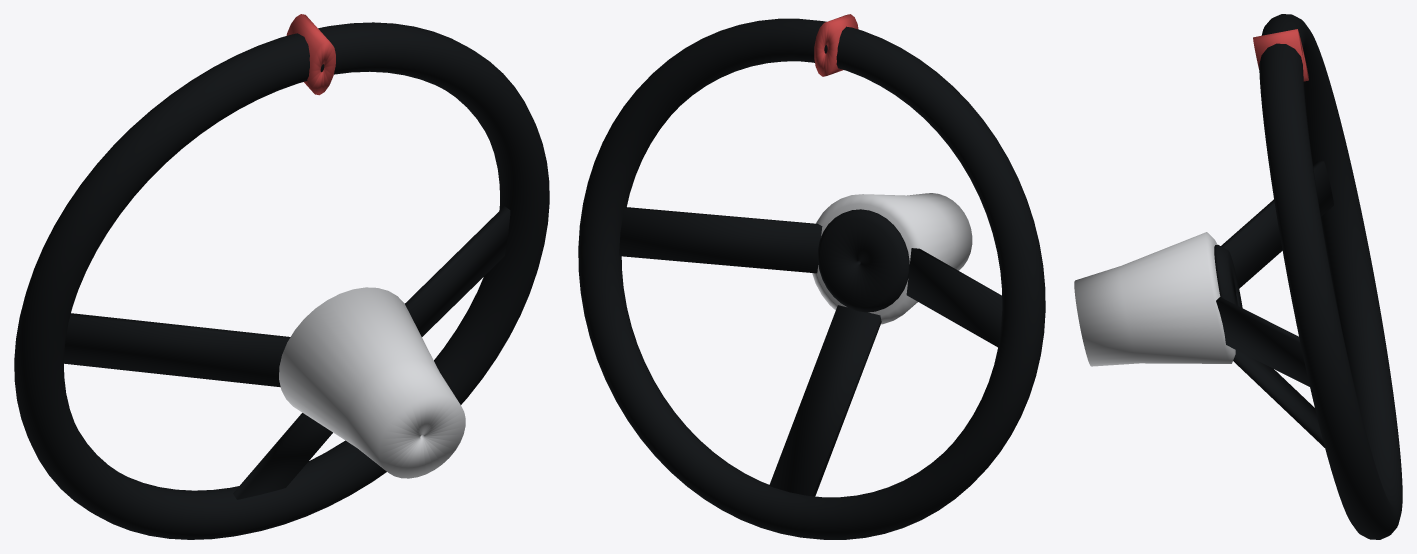
File: SW02_deep_dish_suede_wheel.glb
3 renders of one model, left to right at view 1: azimuth 30°, elevation 25°; view 2: azimuth 150°, elevation 25°; view 3: azimuth 270°, elevation 25°, orthographic. The views are drawn at different scales.
Visible parts, largest first — view 1: MOD_NA_SW02_rim, MOD_NA_SW02_boss, MOD_NA_SW02_spoke1, MOD_NA_SW02_spoke0, MOD_NA_SW02_spoke2, MOD_NA_SW02_marker; view 2: MOD_NA_SW02_rim, MOD_NA_SW02_spoke0, MOD_NA_SW02_spoke2, MOD_NA_SW02_horn, MOD_NA_SW02_boss, MOD_NA_SW02_spoke1, MOD_NA_SW02_marker; view 3: MOD_NA_SW02_rim, MOD_NA_SW02_boss, MOD_NA_SW02_spoke0, MOD_NA_SW02_spoke1, MOD_NA_SW02_spoke2, MOD_NA_SW02_horn, MOD_NA_SW02_marker.
Part boxes in pixels (left/top/right/bottom): MOD_NA_SW02_rim: left=14, top=22, right=549, bottom=539; MOD_NA_SW02_boss: left=279, top=287, right=465, bottom=478; MOD_NA_SW02_spoke1: left=64, top=313, right=290, bottom=387; MOD_NA_SW02_spoke0: left=405, top=206, right=510, bottom=336; MOD_NA_SW02_spoke2: left=233, top=413, right=332, bottom=499; MOD_NA_SW02_marker: left=286, top=14, right=335, bottom=95; MOD_NA_SW02_rim: left=578, top=18, right=1045, bottom=539; MOD_NA_SW02_spoke0: left=619, top=207, right=822, bottom=273; MOD_NA_SW02_spoke2: left=769, top=305, right=881, bottom=496; MOD_NA_SW02_horn: left=817, top=209, right=909, bottom=312; MOD_NA_SW02_boss: left=812, top=193, right=972, bottom=324; MOD_NA_SW02_spoke1: left=906, top=248, right=1002, bottom=347; MOD_NA_SW02_marker: left=814, top=14, right=858, bottom=76; MOD_NA_SW02_rim: left=1259, top=14, right=1402, bottom=539; MOD_NA_SW02_boss: left=1074, top=232, right=1235, bottom=366; MOD_NA_SW02_spoke0: left=1216, top=297, right=1309, bottom=386; MOD_NA_SW02_spoke1: left=1221, top=161, right=1333, bottom=288; MOD_NA_SW02_spoke2: left=1233, top=350, right=1324, bottom=447; MOD_NA_SW02_horn: left=1214, top=244, right=1242, bottom=307; MOD_NA_SW02_marker: left=1253, top=29, right=1308, bottom=81.
Size of the model in its own units: 0.366 by 0.3662 by 0.2246.
